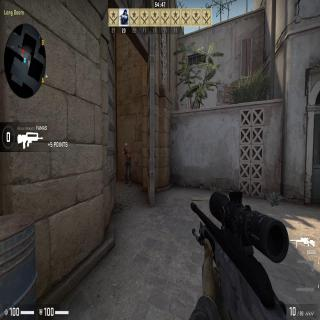T-Body: (123, 144, 132, 186)
T-Head: (124, 144, 128, 150)
